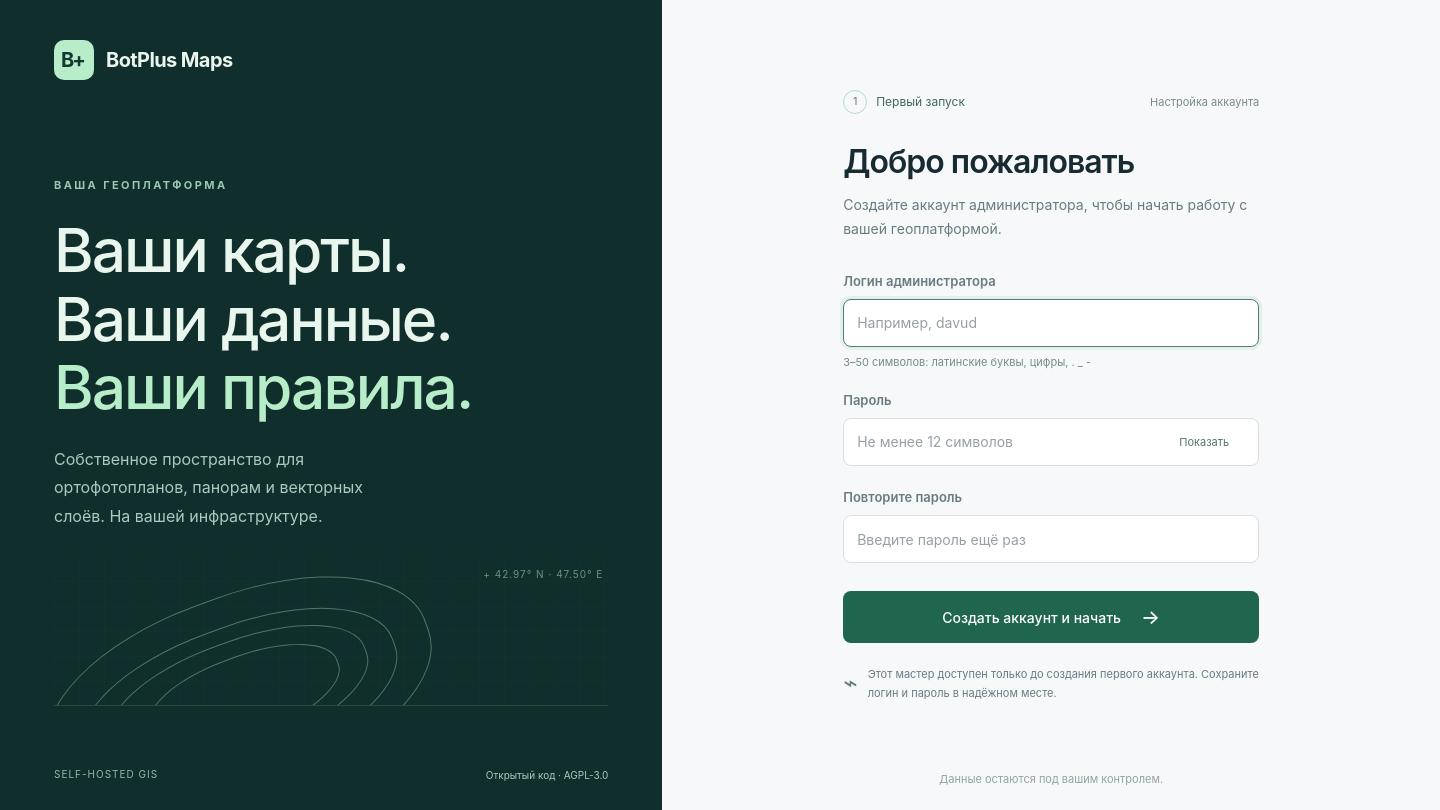
Test: mismatched passwords stay local and show an accessible error
In the field labelled "Логин администратора": [1051, 323] box [843, 299, 1259, 347], type "davud"
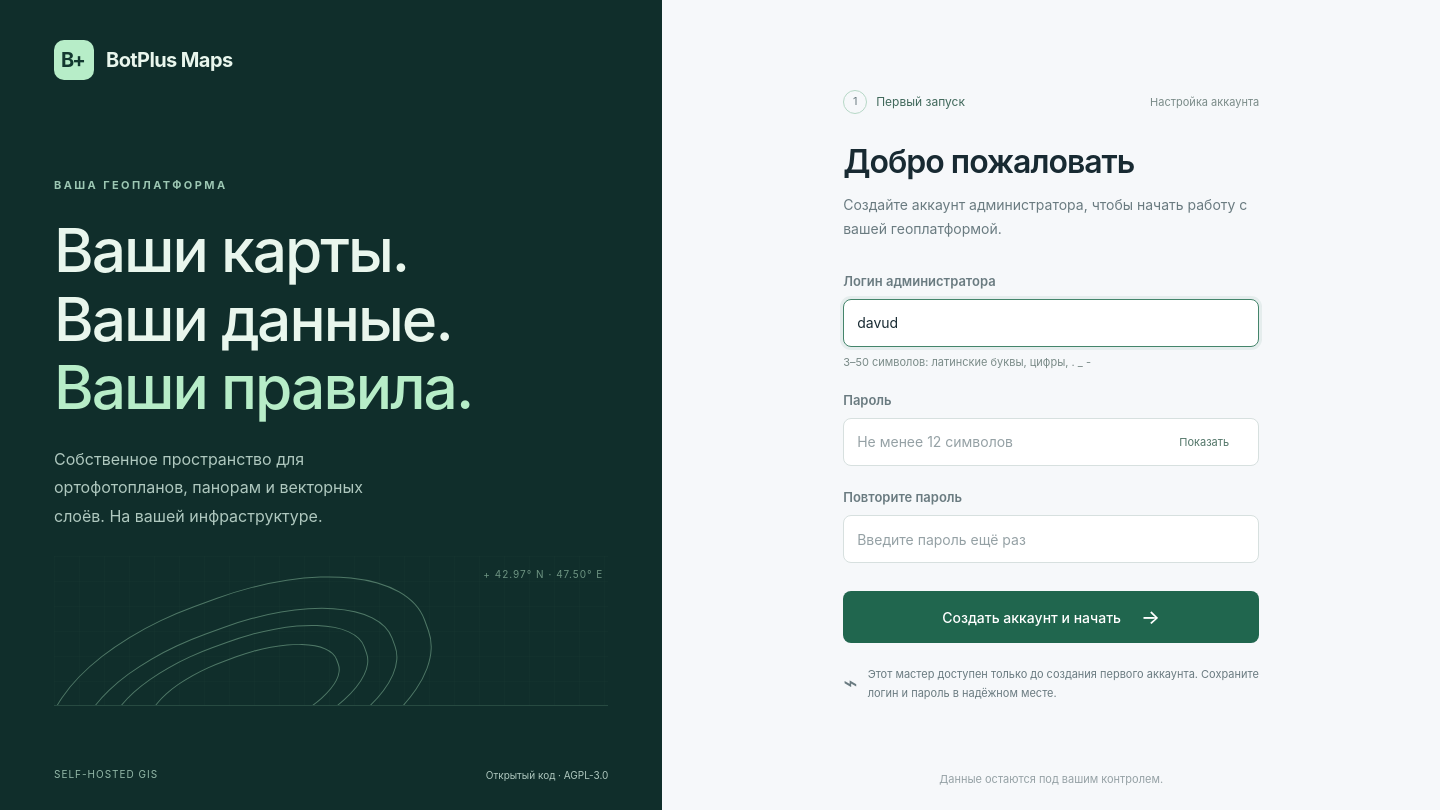
In the password field labelled "Пароль": [1051, 442] box [843, 418, 1259, 466], type "a-very-long-password"
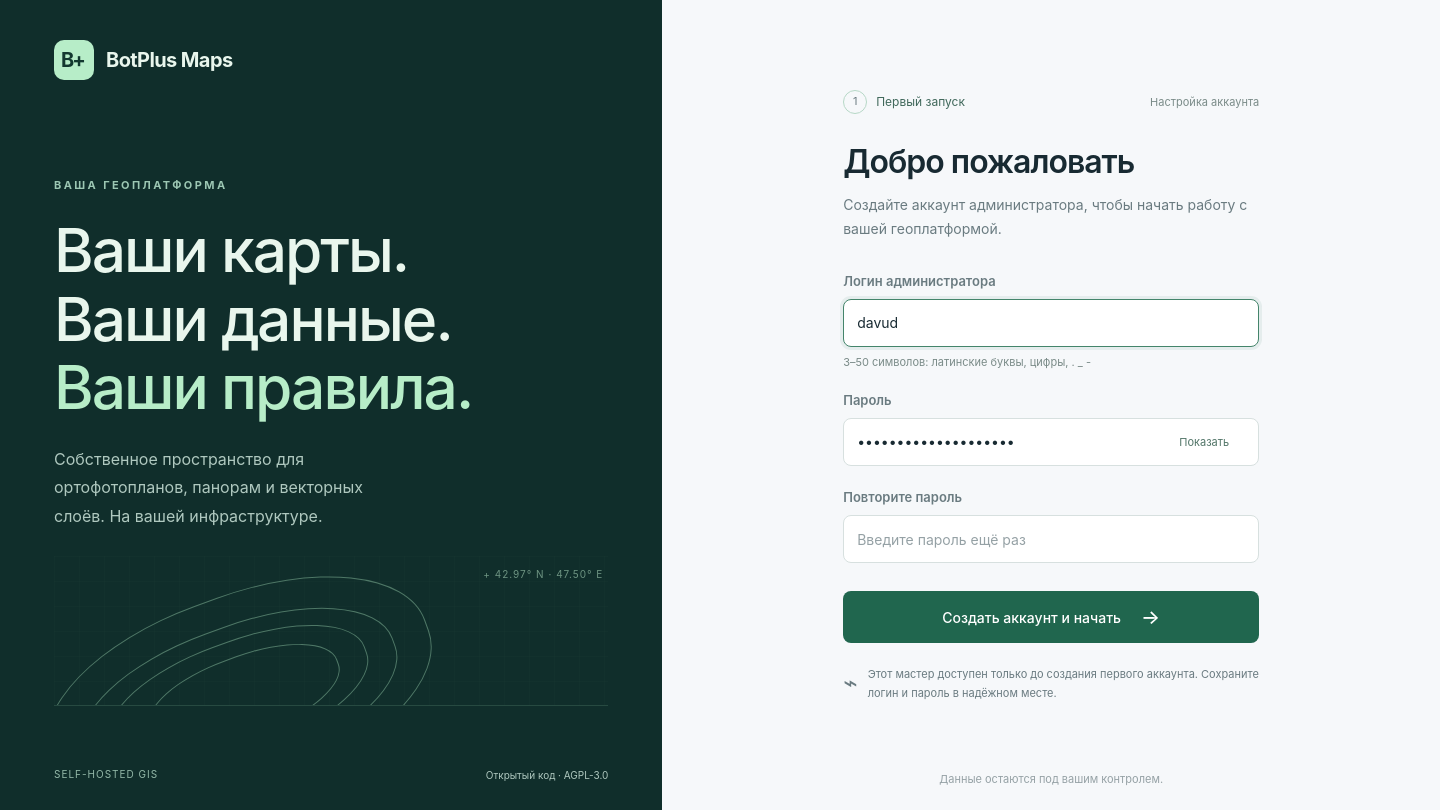
In the password field labelled "Повторите пароль": [1051, 539] box [843, 515, 1259, 563], type "different-long-password"
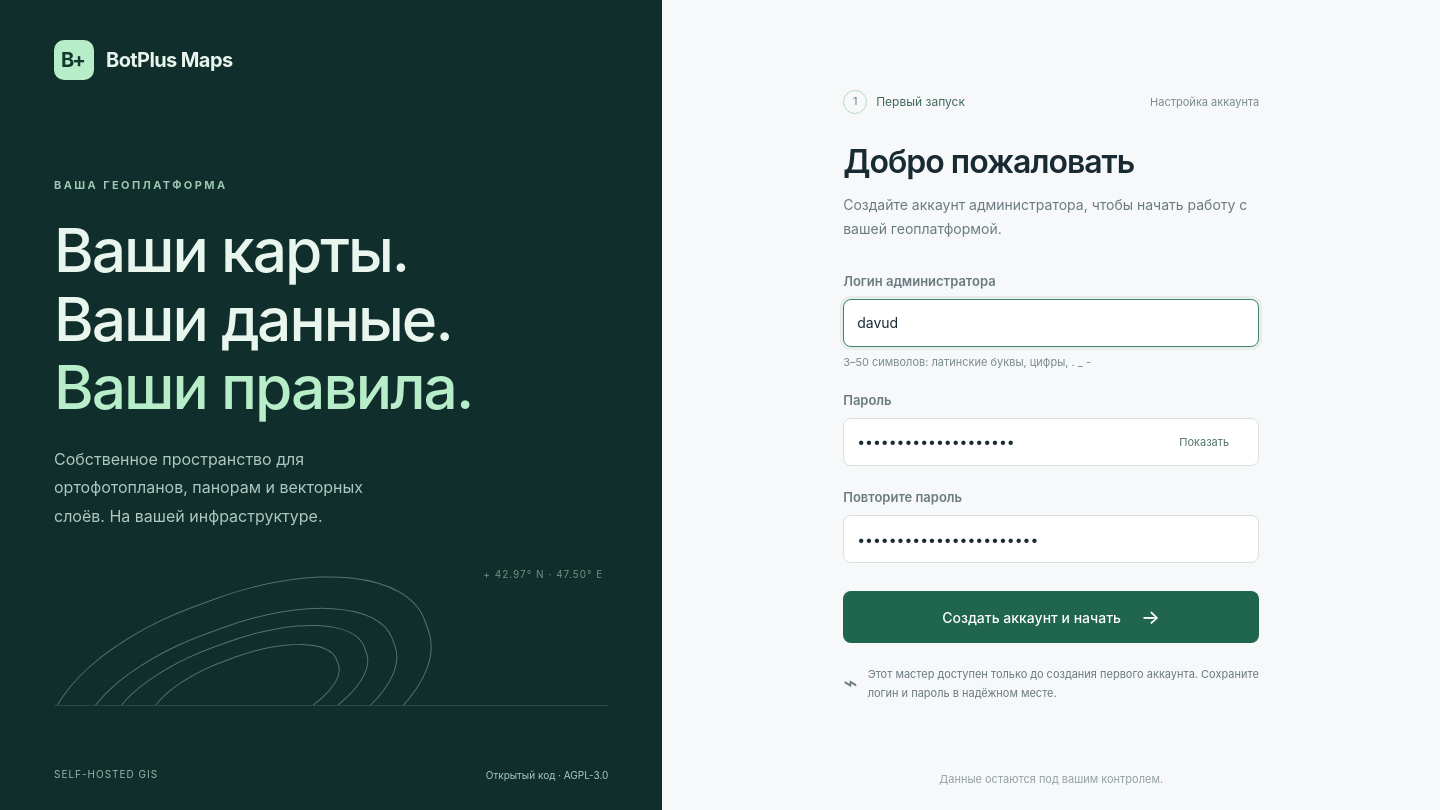
Click the button "Создать аккаунт и начать →": [1051, 617] box [843, 591, 1259, 643]
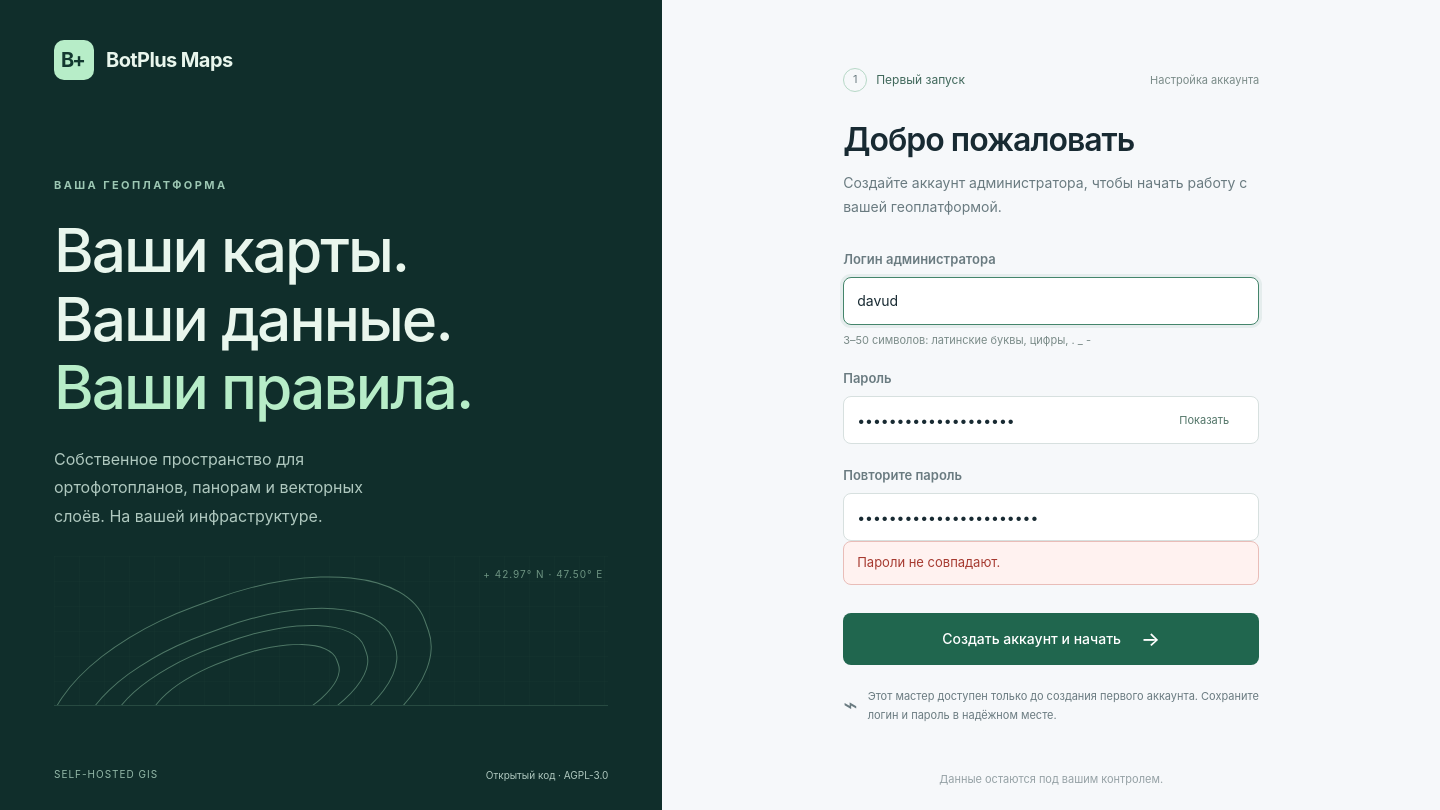
Check: the message reads "Пароли не совпадают.", box [857, 554, 1000, 570]
